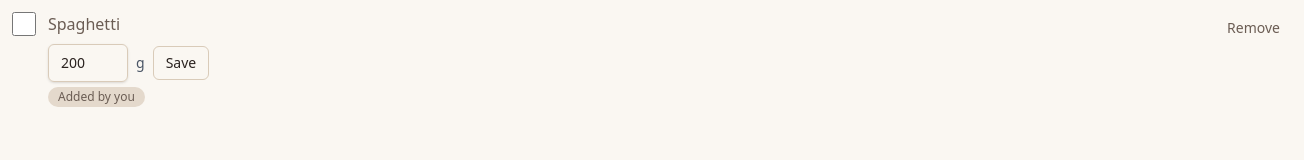
Test: ShoppingListItemRow › quantity edit (TEST-154) › rejects a quantity that is negative, with a message on the field, and keeps the previous value (AC3)
Replace the text in the number field named "quantity for spaghetti" with "-5" at (88, 63), box [48,44,128,82]
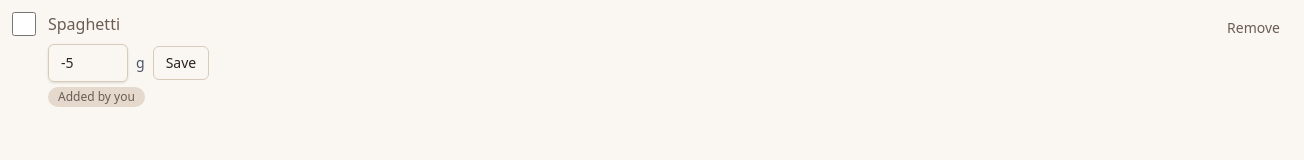
Click the button "Save".
click(181, 63)  # box [153,46,209,80]
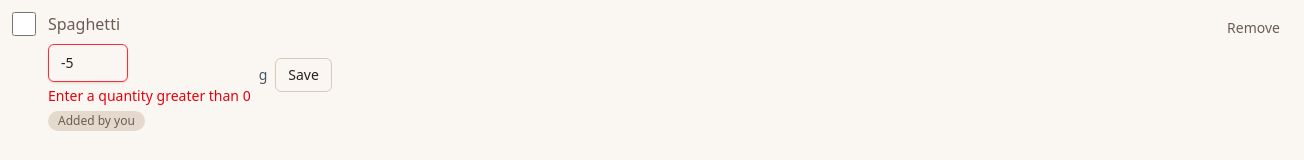
expect the text "Enter a quantity greater than 0" is shown: met, box [48,86,251,106]
